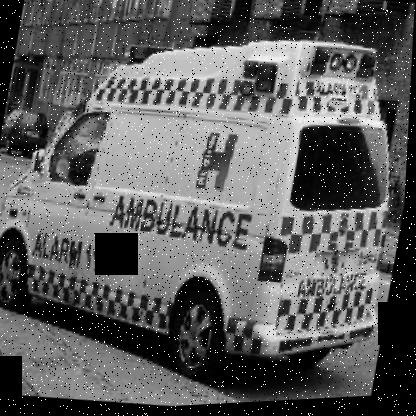emergency: (0, 19, 414, 399)
